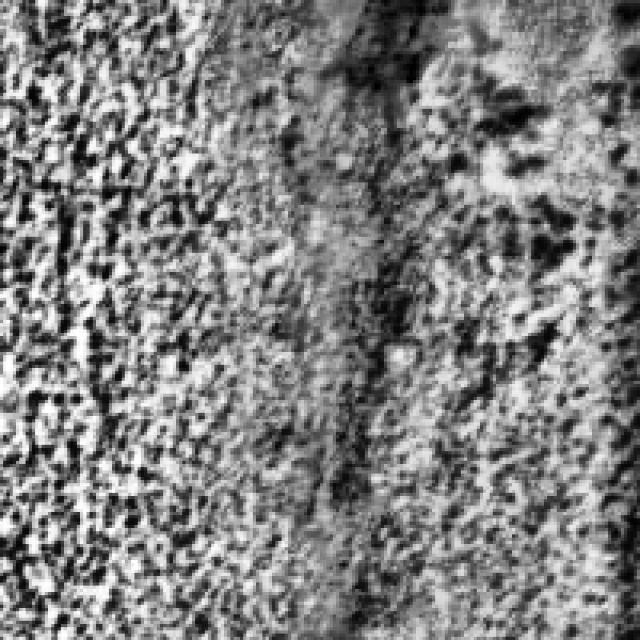Rolled_in_Scale: (13, 0, 400, 618), (364, 7, 634, 630)
Scratches: (304, 0, 454, 96)
